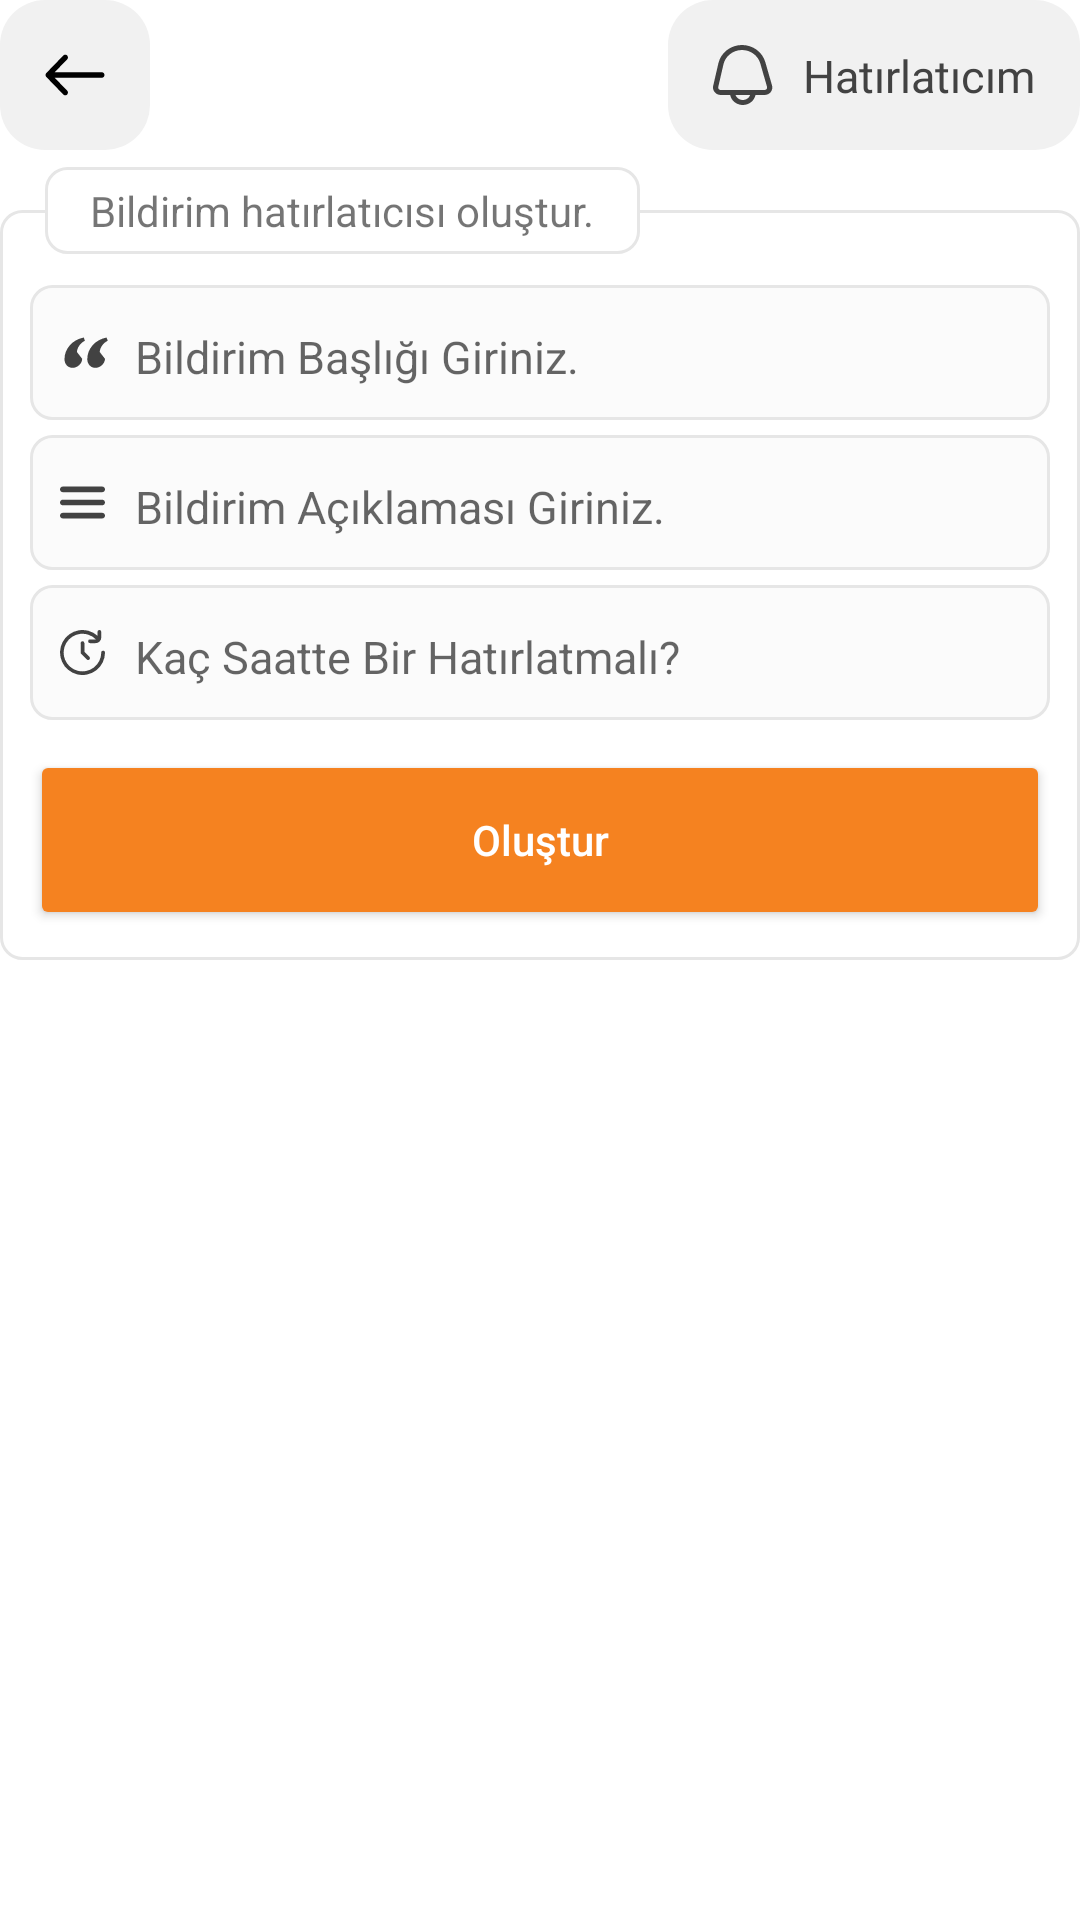

Where icons sit on this 1080×1920 app screen, as (x1, y1, x2, y2):
hatirlatici aciklama: (60, 486, 105, 519)
quotes: (64, 337, 108, 368)
time: (60, 630, 105, 675)
